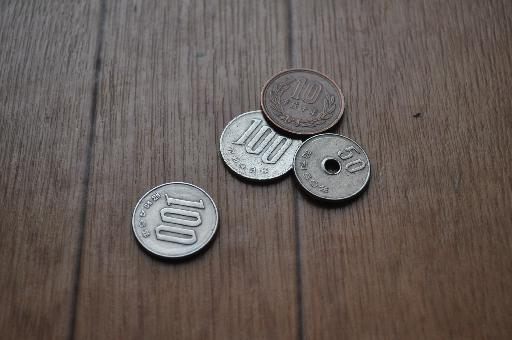100yen: (133, 183, 217, 259), (221, 111, 301, 180)
10yen: (260, 68, 344, 137)
50yen: (293, 133, 370, 201)
